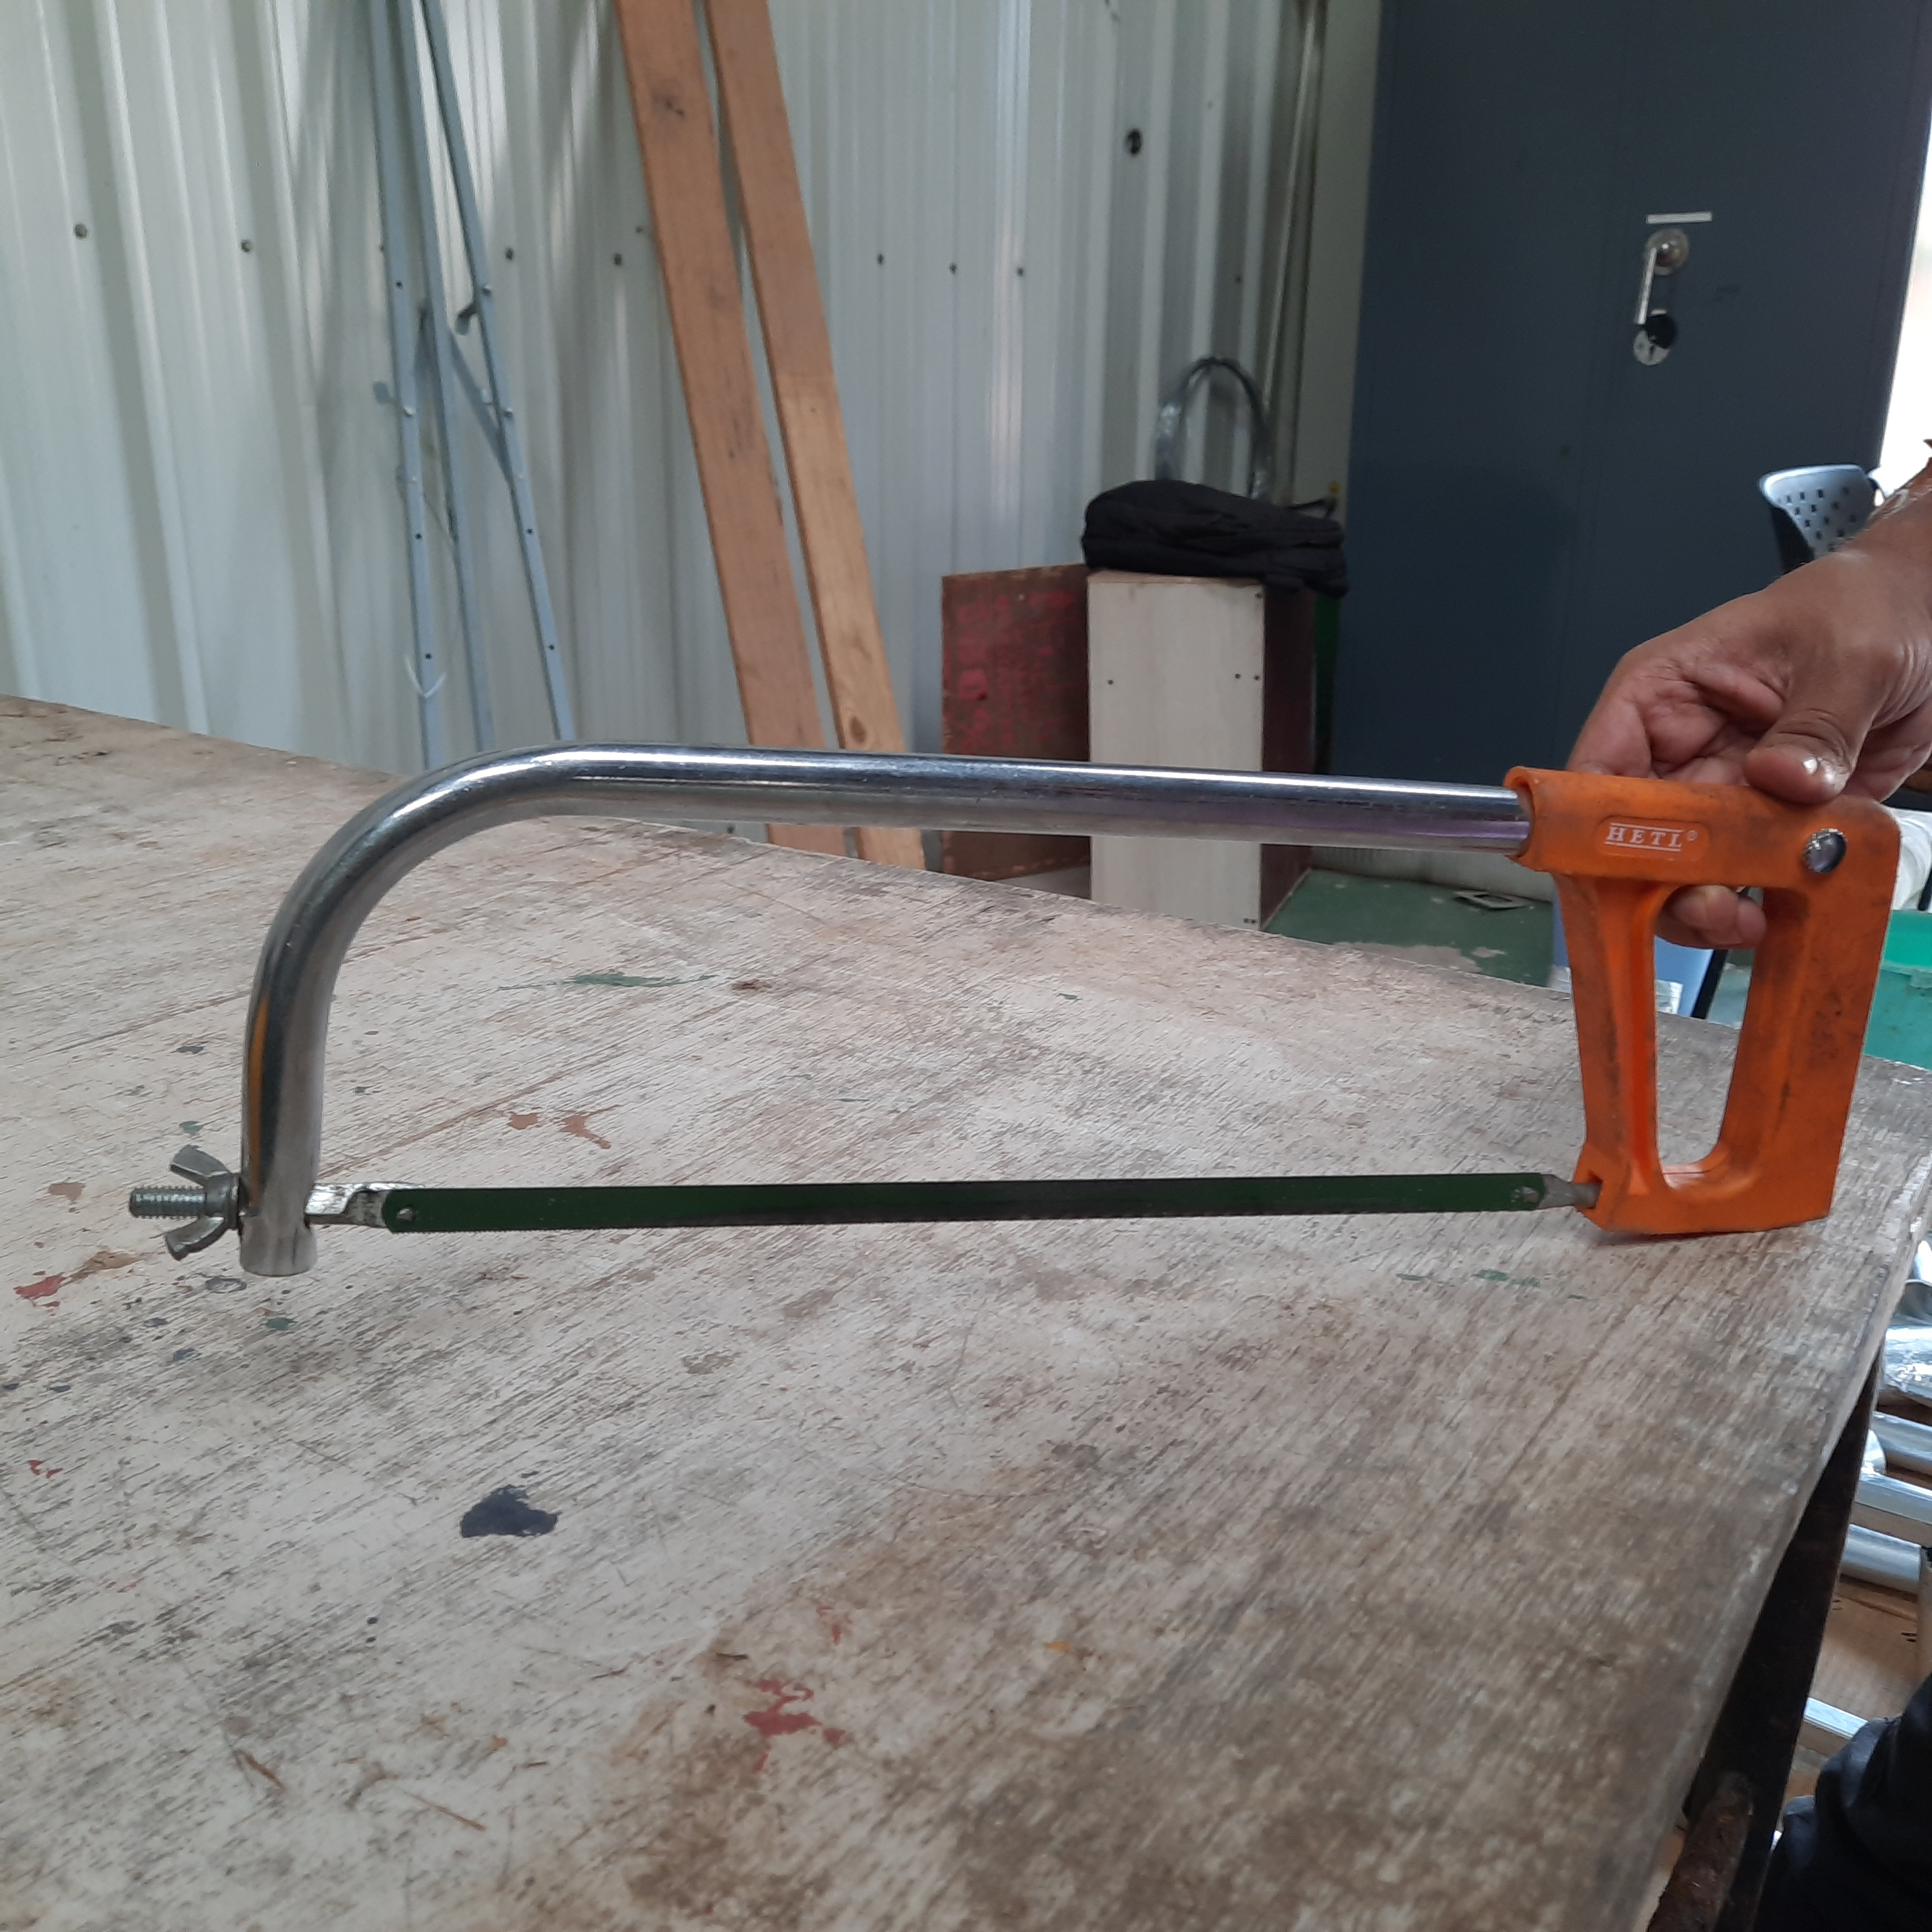Hexaframe: (88, 701, 1916, 1359)
